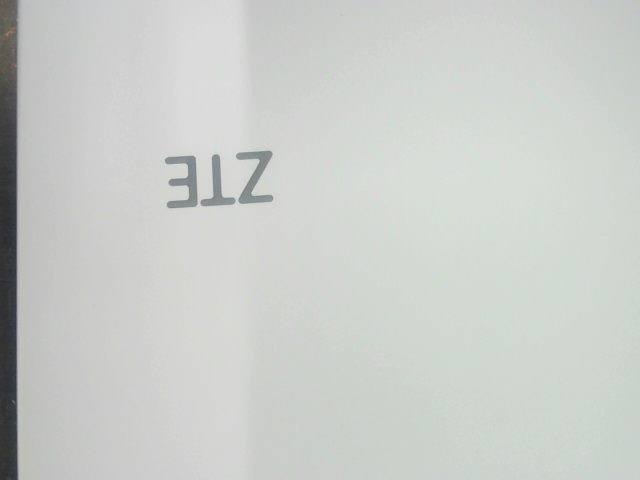AO_ZTESmall: (153, 142, 292, 221)
